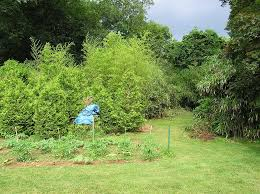bamboo: (1, 38, 75, 134), (79, 30, 168, 99), (106, 101, 161, 132)
